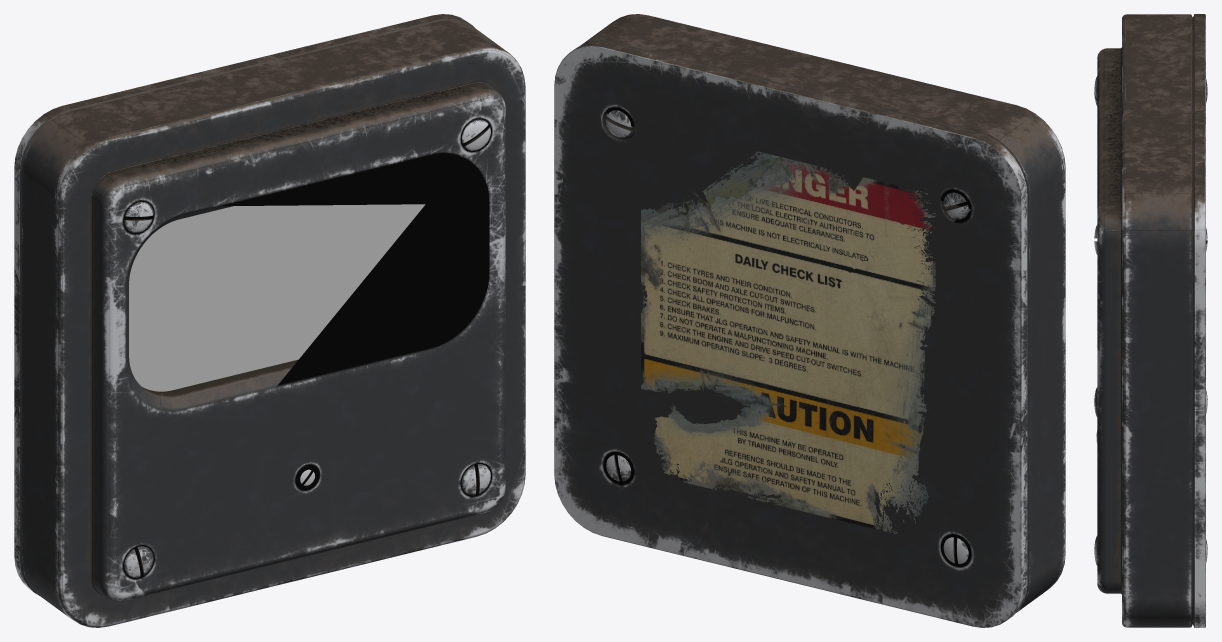
The model's file is Degrees Square Gauge.obj.
3 views of the same model, side by side, from view 1: azimuth 30°, elevation 25°; view 2: azimuth 150°, elevation 25°; view 3: azimuth 270°, elevation 25° (orthographic). The views are drawn at different scales.
Parts seen in each view (by area): view 1: Cube, Plane.002; view 2: Cube, TexturesCom_Instructions0058_M; view 3: Cube.
Part boxes in pixels (box(x1,y1,x2,y2)): Cube: box(14, 14, 525, 627); Plane.002: box(129, 204, 425, 391); Cube: box(554, 14, 1065, 627); TexturesCom_Instructions0058_M: box(641, 151, 935, 533); Cube: box(1094, 14, 1207, 627).
Size of the model in its own units: 3.91 by 3.91 by 0.9088.
